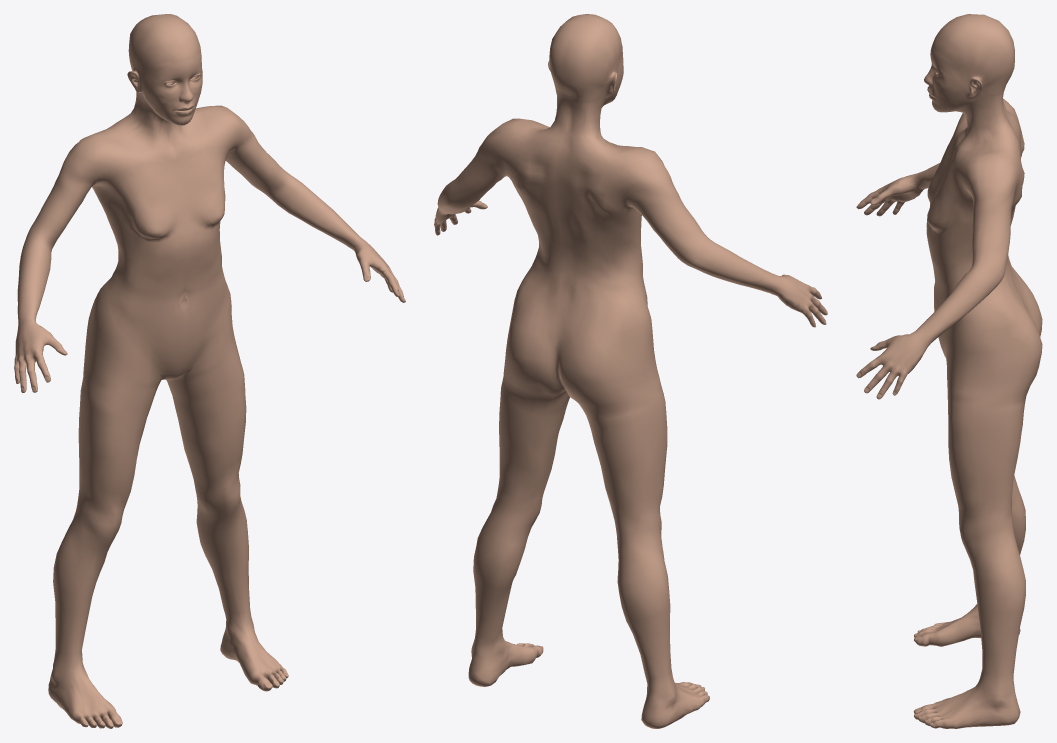
Rendered from 0325-People-base-body-MakeHuman-base-mesh-body-only.glb.
The picture shows the model from 3 angles, left to right: view 1: azimuth 30°, elevation 25°; view 2: azimuth 150°, elevation 25°; view 3: azimuth 270°, elevation 25°; orthographic projection.
Visible parts, largest first — view 1: People: base body/MakeHuman base mesh/body only; view 2: People: base body/MakeHuman base mesh/body only; view 3: People: base body/MakeHuman base mesh/body only.
Boxes of the visible parts, x1=… form: People: base body/MakeHuman base mesh/body only: x1=14, y1=14, x2=405, y2=728; People: base body/MakeHuman base mesh/body only: x1=434, y1=14, x2=827, y2=728; People: base body/MakeHuman base mesh/body only: x1=856, y1=14, x2=1042, y2=728.
Size of the model in its own units: 0.9925 by 1.67 by 0.423.
